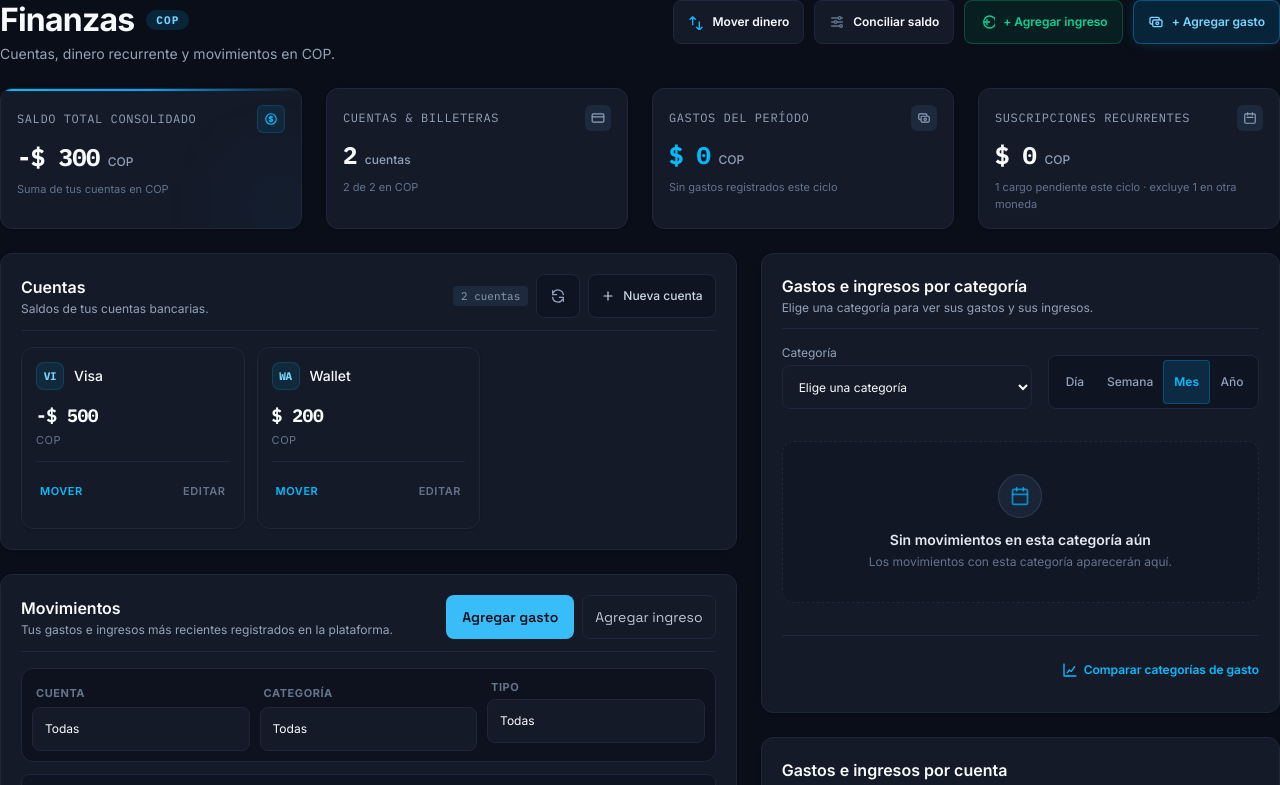
Test: finance screens › offers Mover dinero on every account row and preselects the origin
The width and height of the screenshot is (1280, 785).
Click the button with aria-label "Mover dinero: Visa" at (61, 492), box [36,470,87,514]
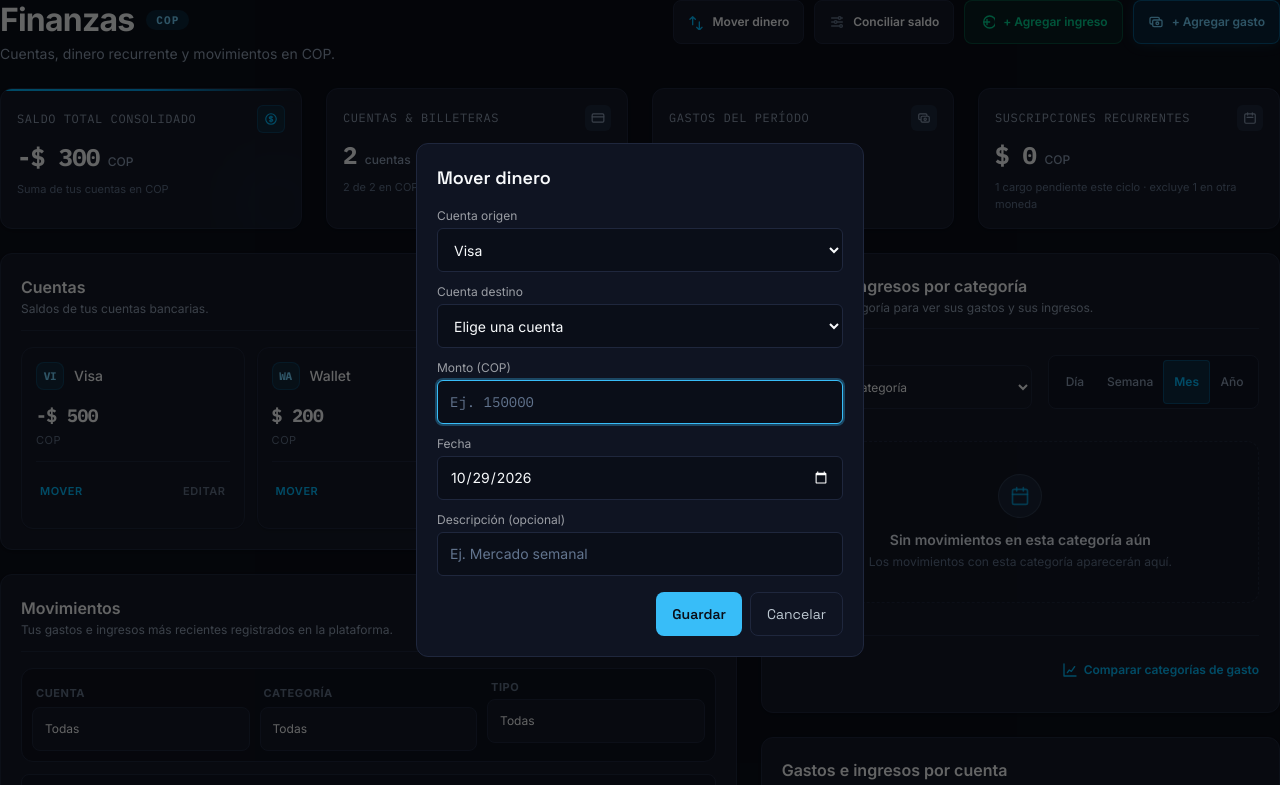
Expected: the heading "Mover dinero" is shown, [437,166,551,189]
Expected: the dropdown labelled "Cuenta origen" shows "Visa", [437,228,843,272]
